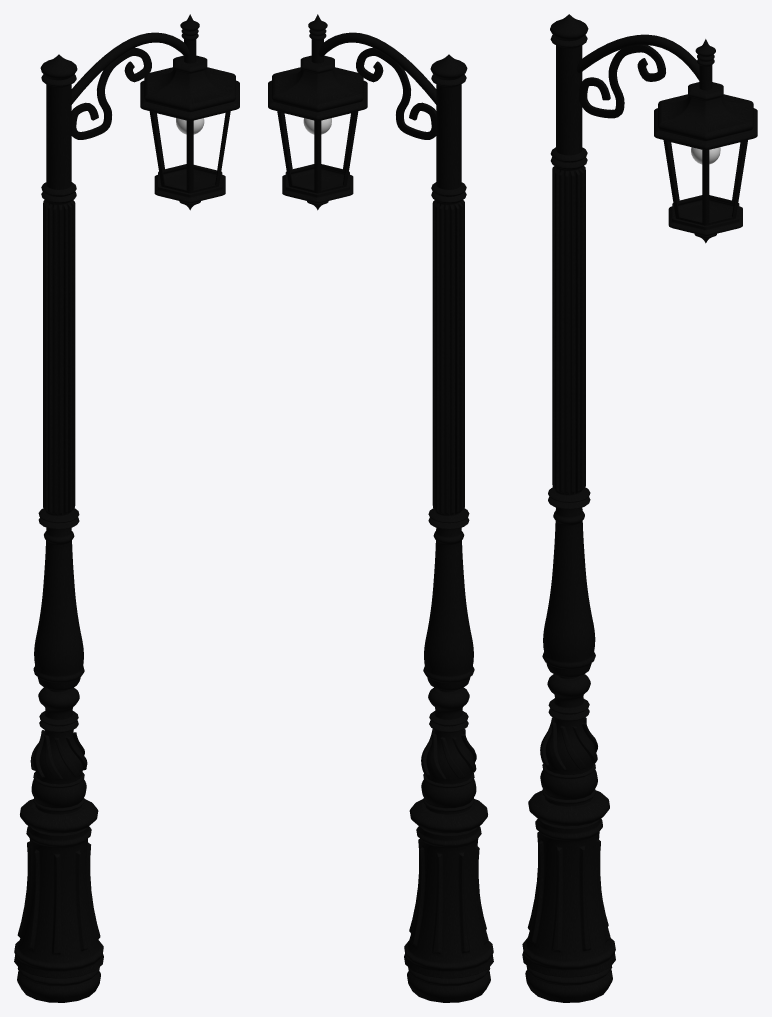
File: post_single_classic.fbx
The picture shows the model from 3 angles, left to right: view 1: azimuth 30°, elevation 25°; view 2: azimuth 150°, elevation 25°; view 3: azimuth 330°, elevation 25°; orthographic projection. The views are drawn at different scales.
Visible parts, largest first — view 1: classic single light pole 001; view 2: classic single light pole 001; view 3: classic single light pole 001.
Part boxes in pixels (x1,y1,x2,y2): classic single light pole 001: (14,14,239,1002); classic single light pole 001: (268,14,493,1002); classic single light pole 001: (522,14,757,1002).
Bounding box in the file's own units: 101 × 412 × 39.43.
3 materials, 3 textured.
